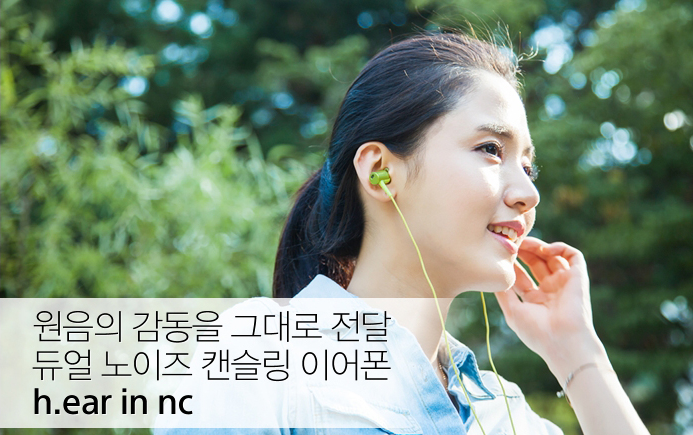earphone: (353, 141, 400, 202)
